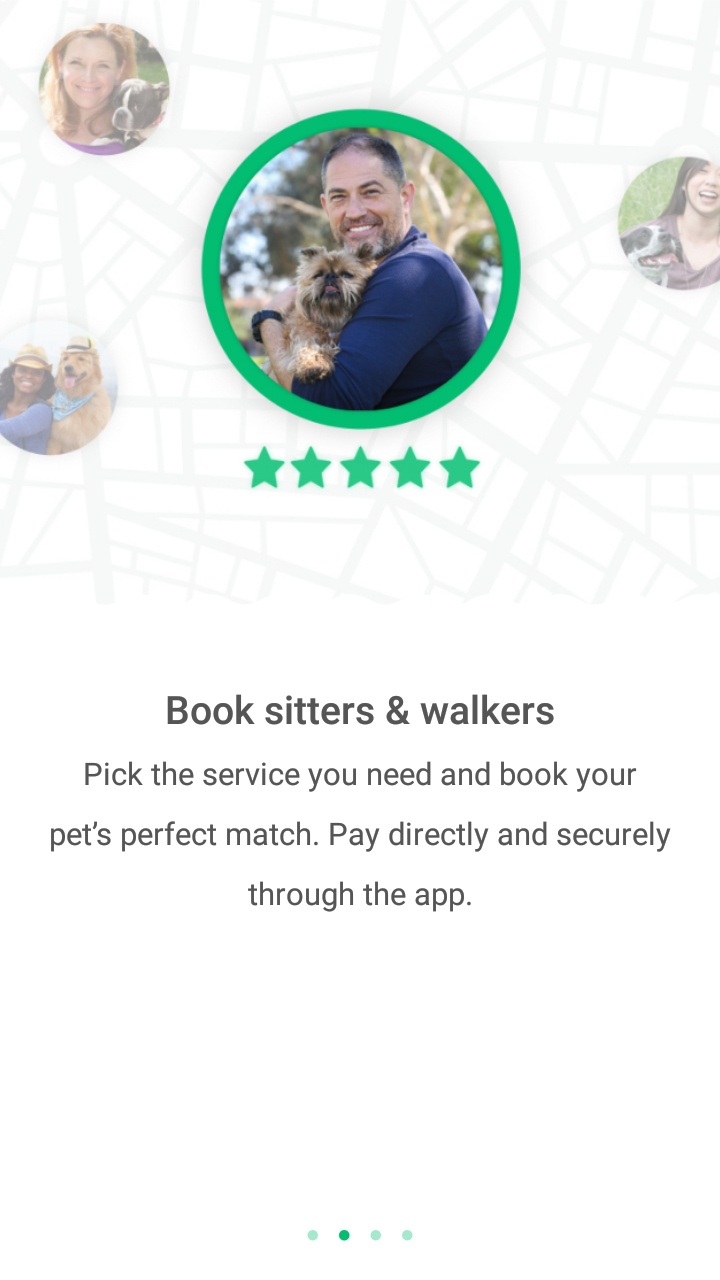Icon: (243, 445, 481, 490)
Image: (1, 1, 720, 606)
PageIndicator: (307, 1229, 413, 1241)
Text: (51, 821, 671, 853), (85, 760, 637, 793), (167, 694, 555, 726), (248, 881, 472, 913)
